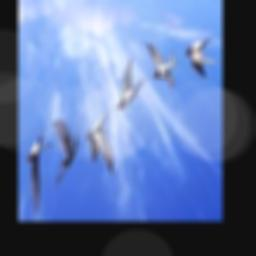Swallow: (26, 127, 54, 213), (86, 103, 118, 174), (53, 119, 81, 187), (144, 40, 182, 89), (117, 60, 151, 110), (186, 34, 216, 77)
